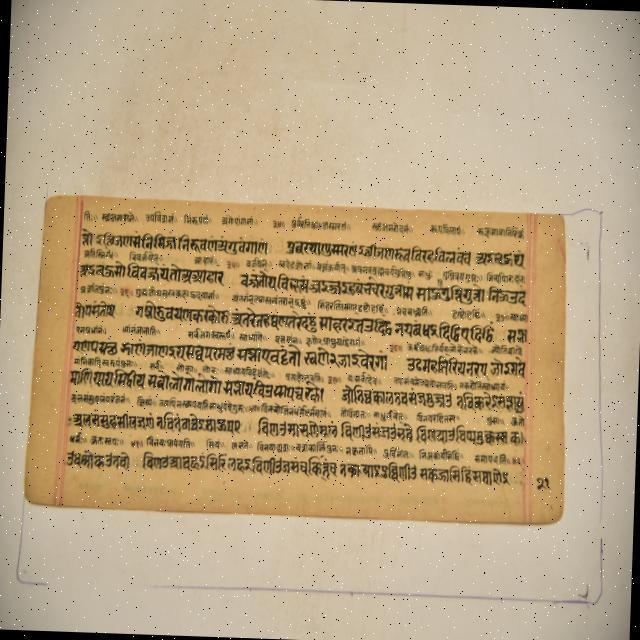text_paragraph: (22, 200, 560, 520)
